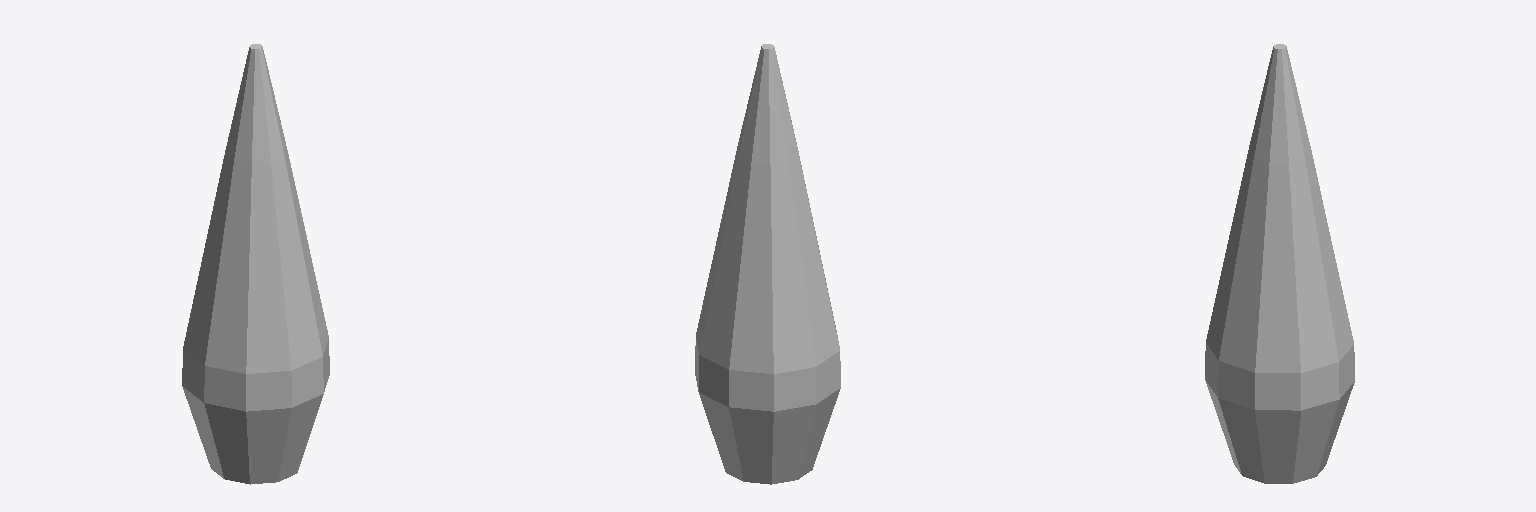
Rendered from Tree_z_Icon_.obj.
3 renders of one model, left to right at view 1: azimuth 30°, elevation 25°; view 2: azimuth 150°, elevation 25°; view 3: azimuth 270°, elevation 25°, orthographic.
Parts seen in each view (by area): view 1: Mesh1 Model; view 2: Mesh1 Model; view 3: Mesh1 Model.
Part boxes in pixels (left/top/right/bottom): Mesh1 Model: left=182, top=44, right=329, bottom=484; Mesh1 Model: left=695, top=44, right=840, bottom=484; Mesh1 Model: left=1205, top=44, right=1354, bottom=483.
Size of the model in its own units: 71.46 by 229 by 74.5.